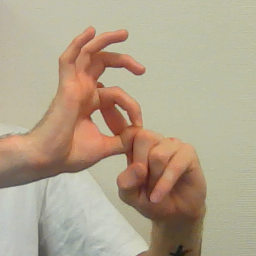OE: (46, 23, 211, 222)
